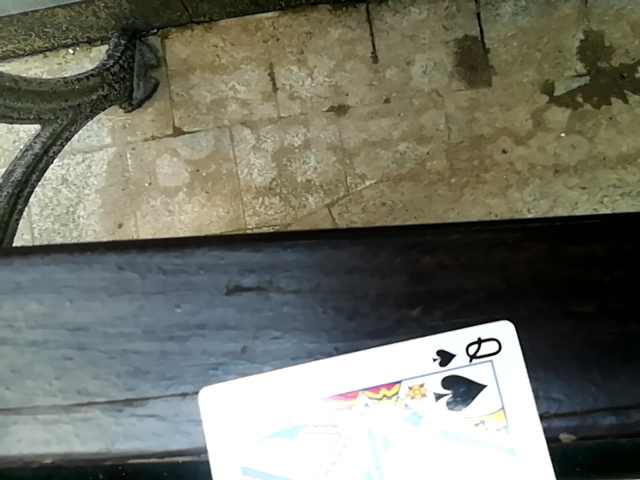ht q: (185, 317, 588, 480)
